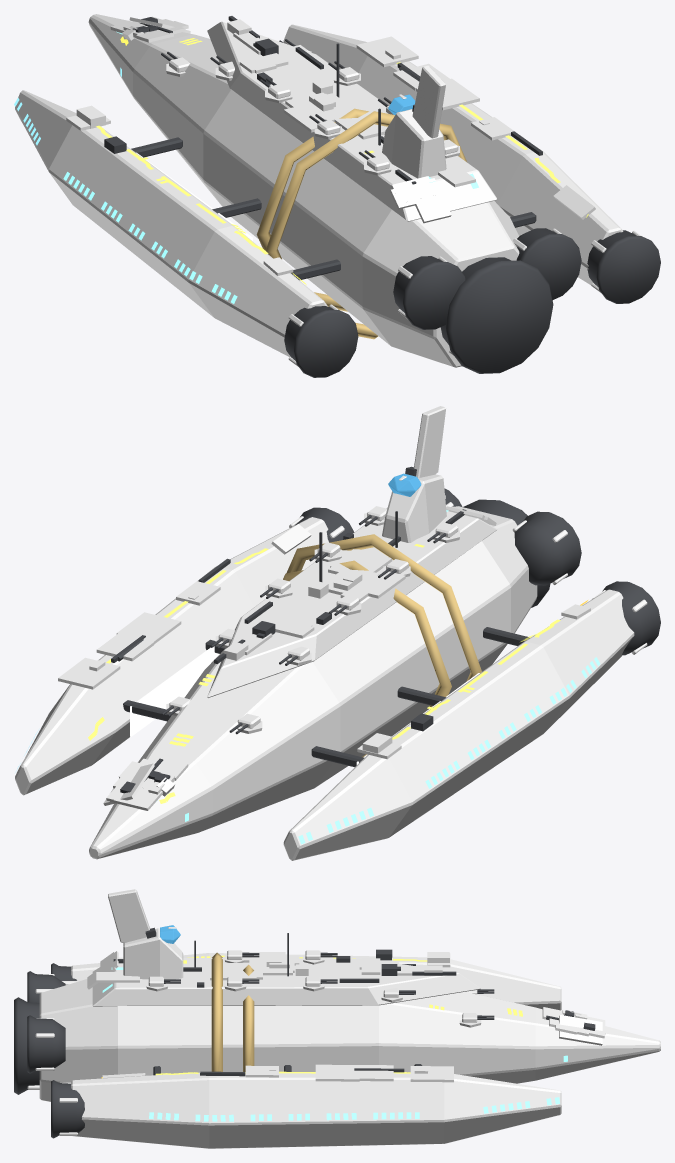
The model's file is imperator.glb.
The picture shows the model from 3 angles, top to bottom: view 1: azimuth 30°, elevation 25°; view 2: azimuth 150°, elevation 25°; view 3: azimuth 270°, elevation 25°; orthographic projection. The views are drawn at different scales.
Parts seen in each view (by area): view 1: Хребет, Бортовой_корпус.001, Бортовой_корпус, Накладные_плиты, Ярус, Кожух_дюзы.004, Кожух_дюзы.002, Кожух_дюзы, Кожух_дюзы.003, Мостик, Кожух_дюзы.001, Кольцо_реактора (+8 smaller); view 2: Хребет, Бортовой_корпус.001, Бортовой_корпус, Накладные_плиты, Ярус, Кожух_дюзы.003, Мостик, Кольцо_реактора, Механика, Кожух_дюзы.002, Ангар, Кольцо_реактора.001 (+5 smaller); view 3: Хребет, Бортовой_корпус, Ярус, Накладные_плиты, Бортовой_корпус.001, Мостик, Механика, Кожух_дюзы.001, Кожух_дюзы.004, Флаг, Кожух_дюзы, Кольцо_реактора (+4 smaller).
Part boxes in pixels (left/top/right/bottom): Хребет: left=88, top=14, right=519, bottom=367; Бортовой_корпус.001: left=15, top=90, right=327, bottom=357; Бортовой_корпус: left=283, top=24, right=623, bottom=284; Накладные_плиты: left=66, top=16, right=595, bottom=275; Ярус: left=207, top=21, right=496, bottom=221; Кожух_дюзы.004: left=440, top=257, right=553, bottom=373; Кожух_дюзы.002: left=284, top=306, right=358, bottom=377; Кожух_дюзы: left=587, top=230, right=660, bottom=303; Кожух_дюзы.003: left=393, top=256, right=465, bottom=329; Мостик: left=382, top=109, right=446, bottom=178; Кожух_дюзы.001: left=516, top=228, right=581, bottom=299; Кольцо_реактора: left=265, top=111, right=467, bottom=339; Хребет: left=89, top=506, right=537, bottom=859; Бортовой_корпус.001: left=283, top=589, right=634, bottom=860; Бортовой_корпус: left=15, top=517, right=328, bottom=795; Накладные_плиты: left=58, top=495, right=590, bottom=810; Ярус: left=207, top=508, right=496, bottom=697; Кожух_дюзы.003: left=514, top=511, right=581, bottom=585; Мостик: left=382, top=474, right=446, bottom=542; Кольцо_реактора: left=286, top=534, right=481, bottom=681; Механика: left=111, top=466, right=466, bottom=793; Кожух_дюзы.002: left=602, top=581, right=660, bottom=655; Ангар: left=130, top=646, right=219, bottom=736; Кольцо_реактора.001: left=283, top=560, right=451, bottom=757; Хребет: left=39, top=979, right=660, bottom=1101; Бортовой_корпус: left=71, top=1072, right=561, bottom=1148; Ярус: left=92, top=957, right=480, bottom=1006; Накладные_плиты: left=87, top=951, right=605, bottom=1082; Бортовой_корпус.001: left=71, top=953, right=561, bottom=1010; Мостик: left=123, top=928, right=183, bottom=979; Механика: left=113, top=927, right=595, bottom=1076; Кожух_дюзы.001: left=27, top=1015, right=65, bottom=1073; Кожух_дюзы.004: left=14, top=997, right=39, bottom=1094; Флаг: left=108, top=889, right=149, bottom=942; Кожух_дюзы: left=51, top=1080, right=84, bottom=1138; Кольцо_реактора: left=211, top=952, right=222, bottom=1071.
Bounding box in the file's own units: 1.33 × 1.04 × 2.48.
